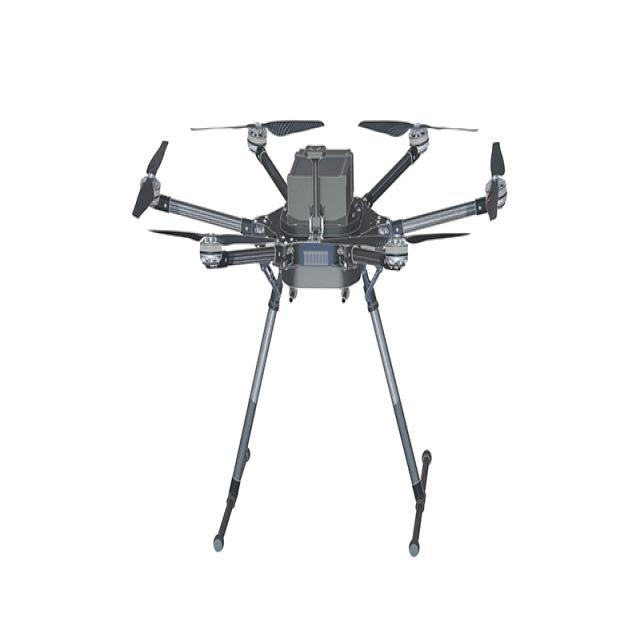drone: (133, 69, 522, 588)
